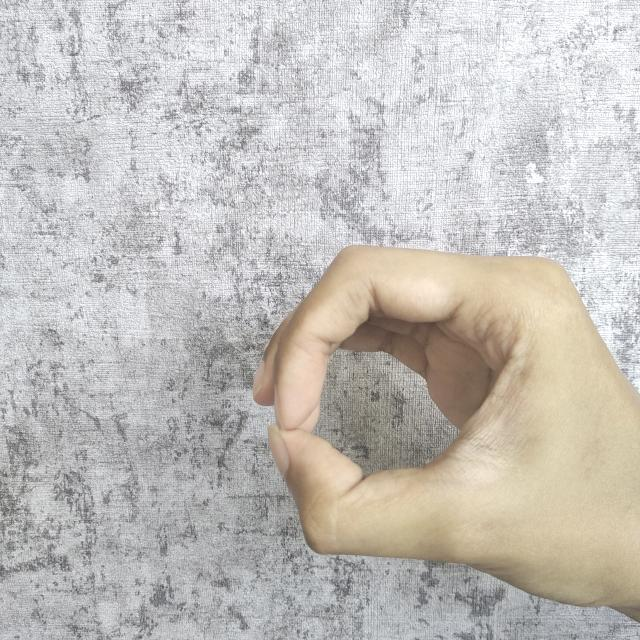O: (248, 234, 640, 625)
